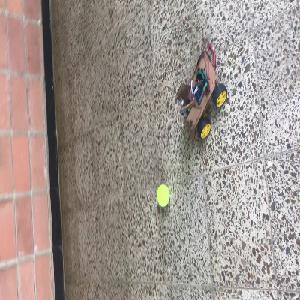Ball: (156, 184, 169, 207)
Robot: (176, 50, 227, 139)
